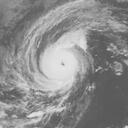cyclone: (29, 33, 93, 93)
